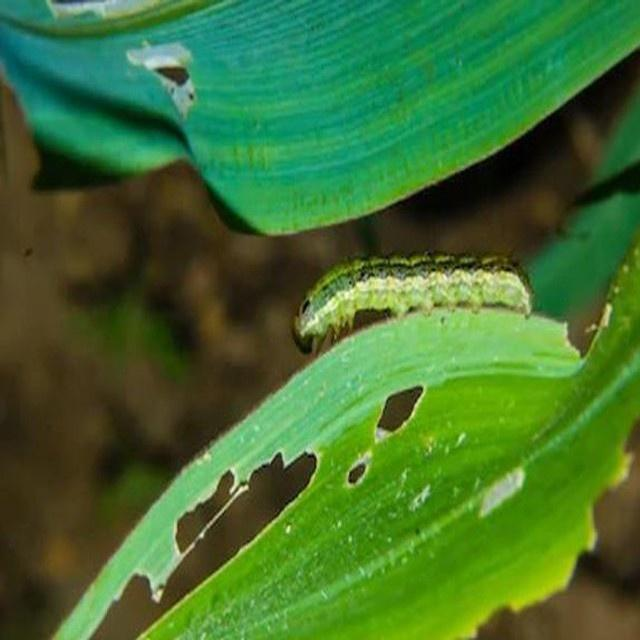gusano_cogollero: (295, 258, 533, 348)
